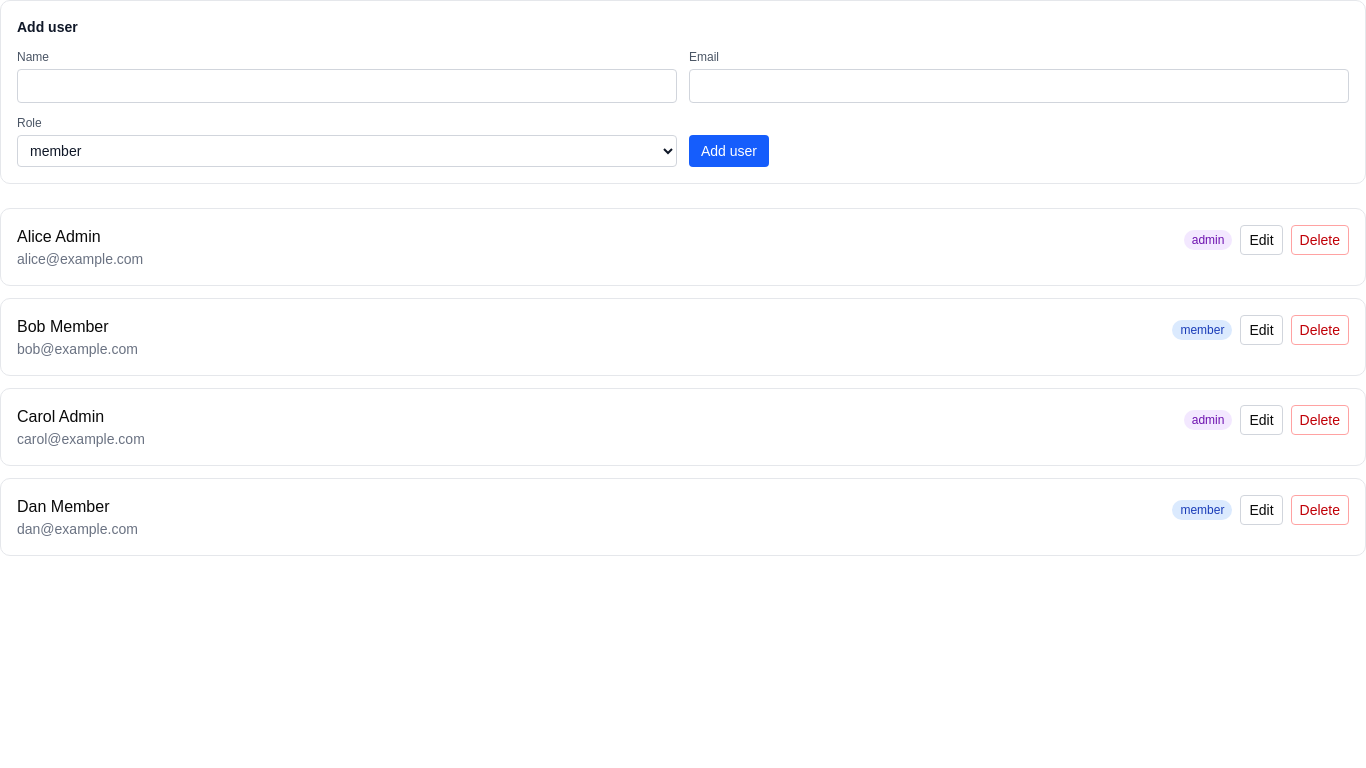
Test case: UsersPage › adds a user from the form and shows them in the list
expect the text "Alice Admin" is shown: met, box left=17, top=228, right=101, bottom=245
Type "Eve New" into the field labelled "Name".
click(347, 86); type("Eve New")  # box left=17, top=69, right=677, bottom=103
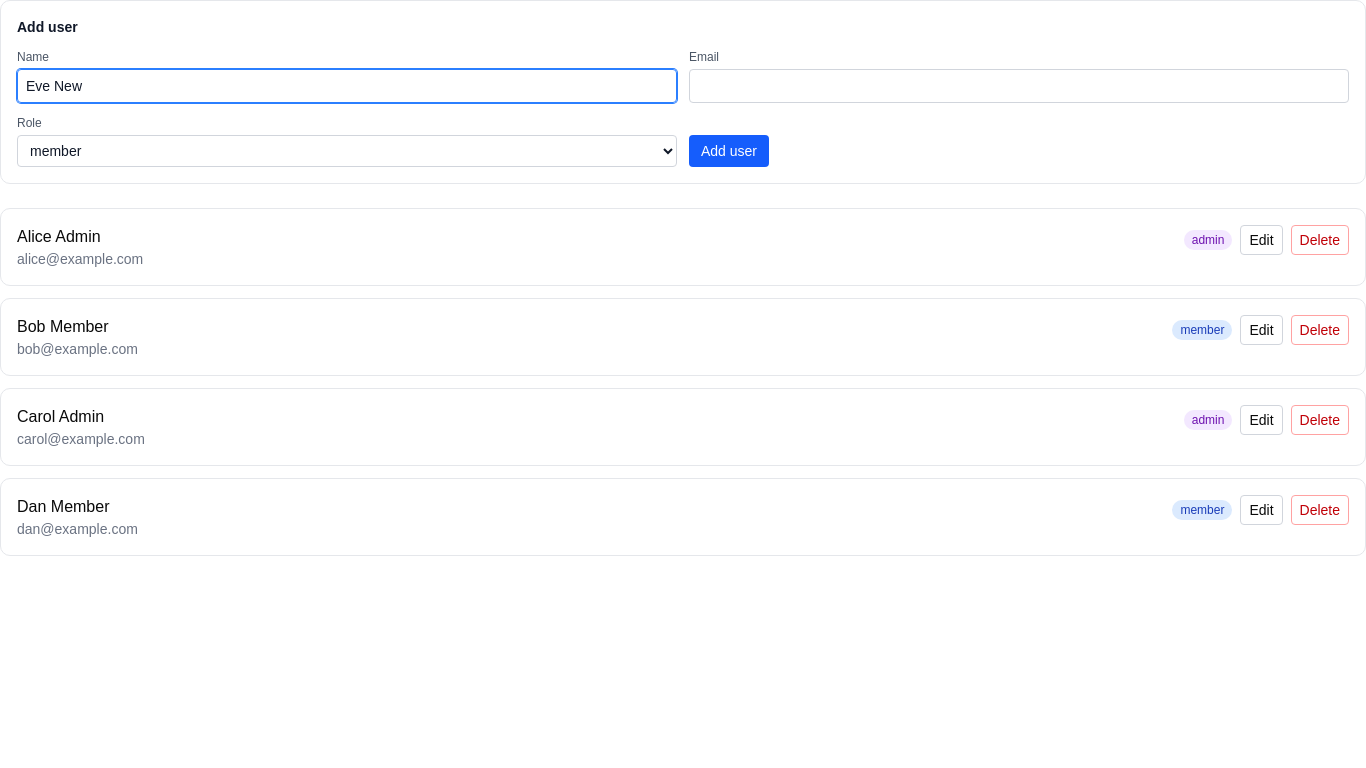
Type "eve@example.com" into the field labelled "Email".
click(1019, 86); type("eve@example.com")  # box left=689, top=69, right=1349, bottom=103
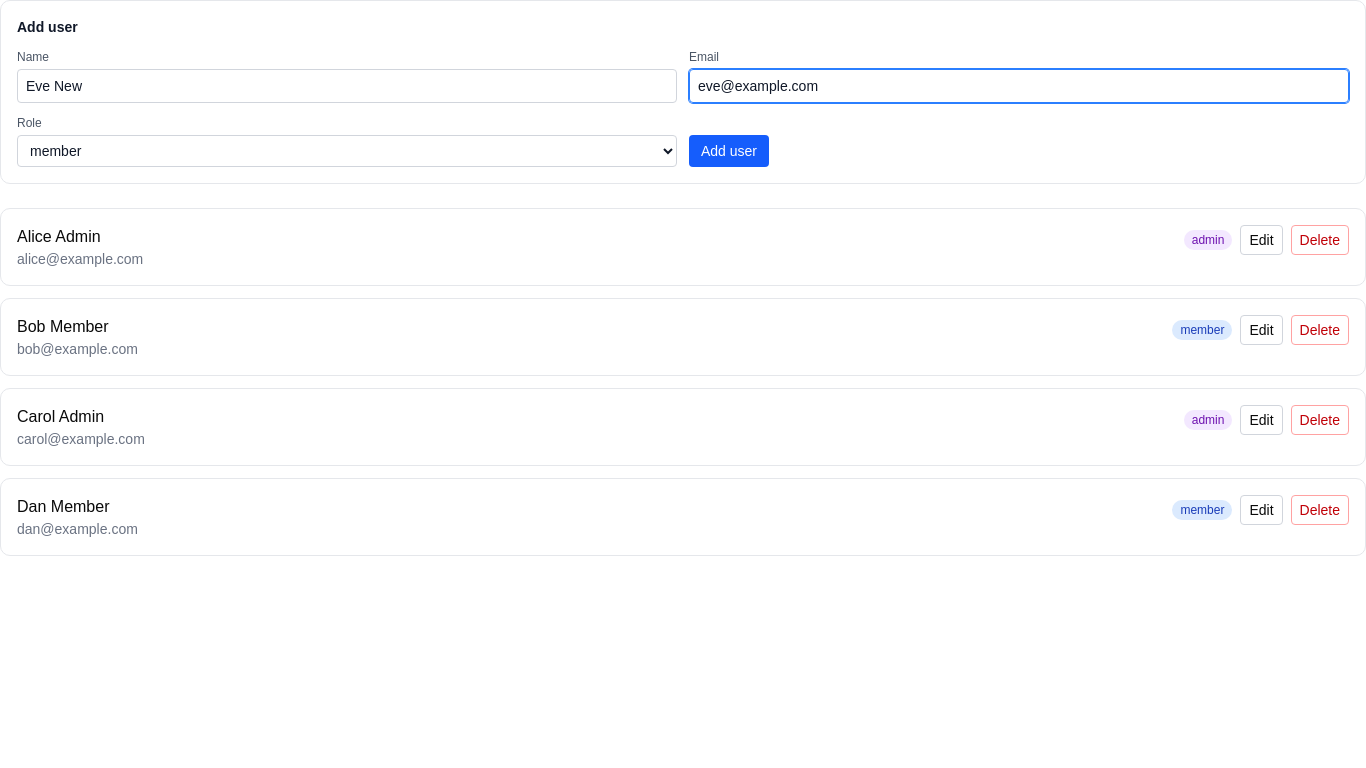
Select "admin" in the dropdown labelled "Role" at [347, 151], box left=17, top=135, right=677, bottom=167
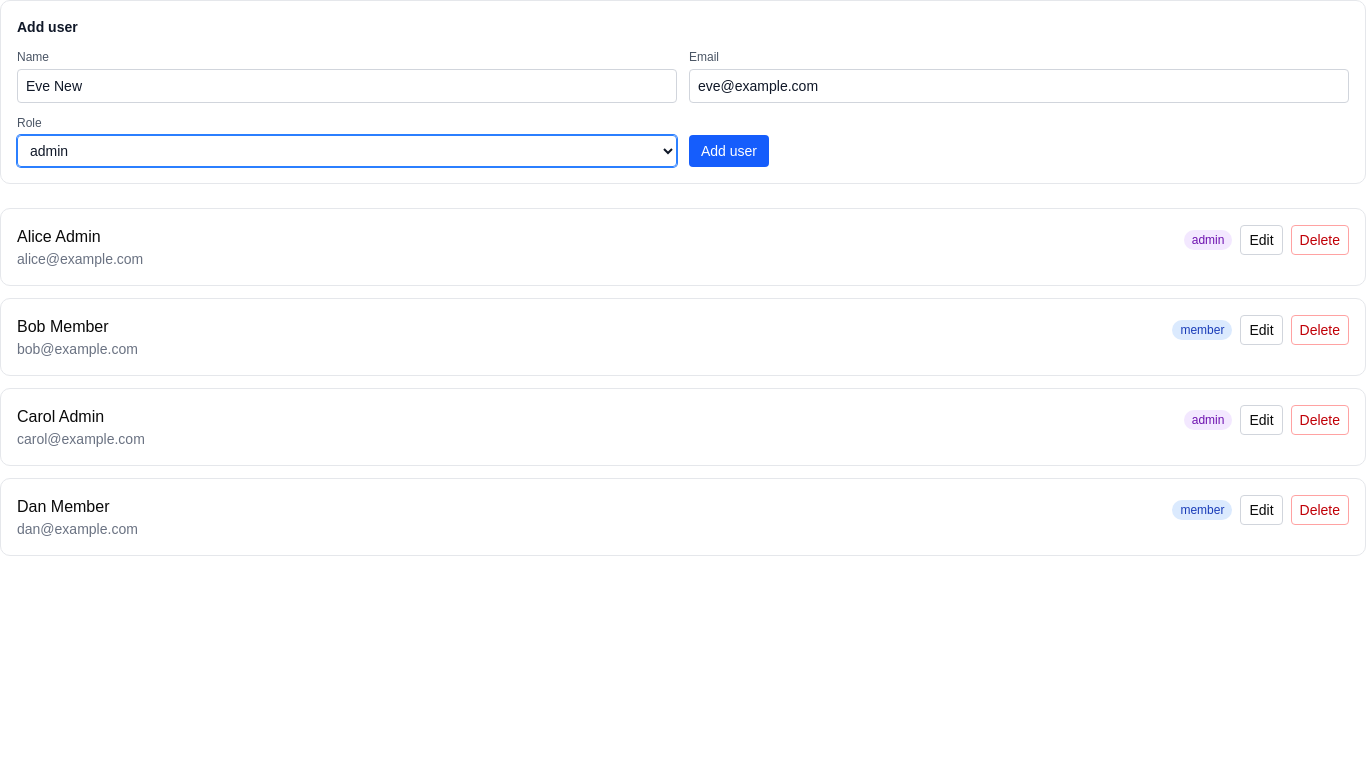
Click the button "Add user".
click(729, 151)  # box left=689, top=135, right=769, bottom=167
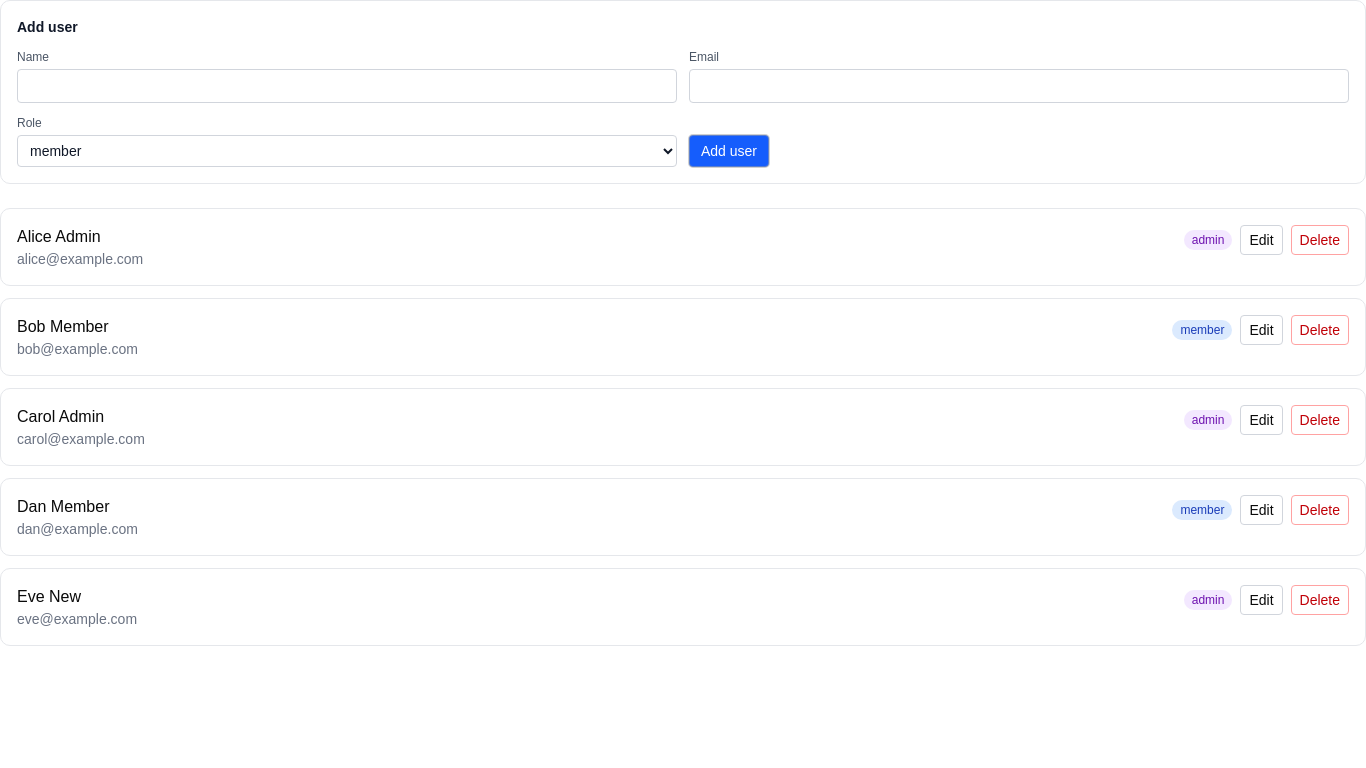
expect the text "Eve New" is shown: met, box left=17, top=588, right=81, bottom=605
expect the text "eve@example.com" is shown: met, box left=17, top=609, right=137, bottom=629
